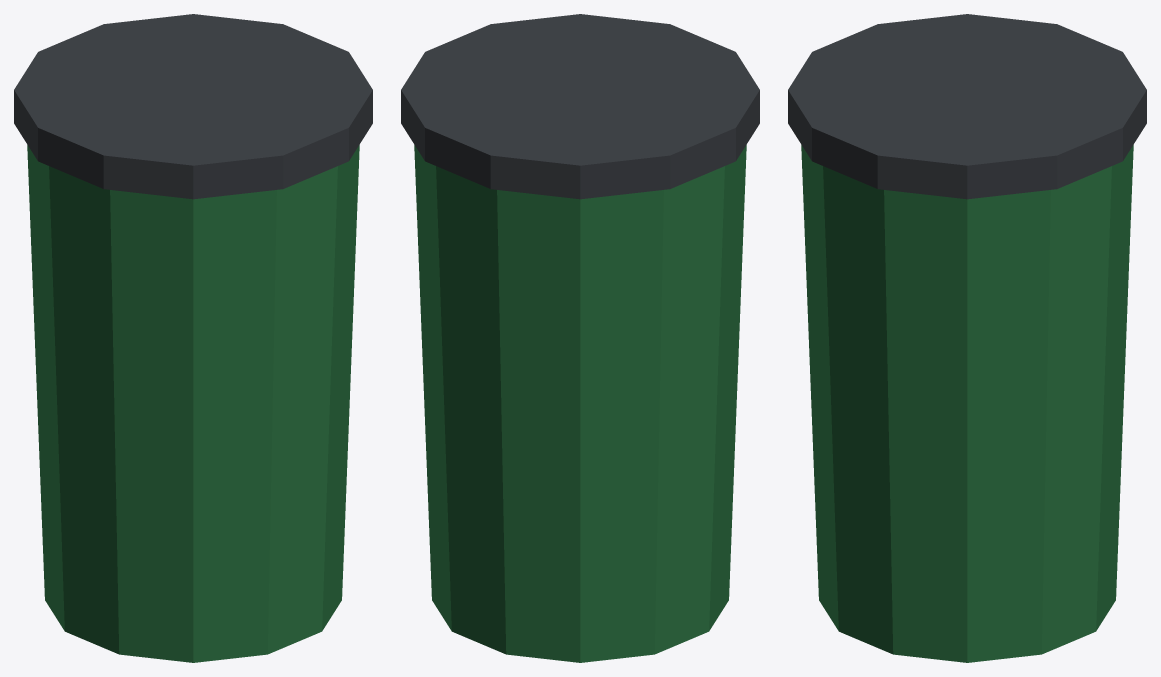
File: lixeira.glb
3 renders of one model, left to right at view 1: azimuth 30°, elevation 25°; view 2: azimuth 150°, elevation 25°; view 3: azimuth 270°, elevation 25°, orthographic.
Parts seen in each view (by area): view 1: lixeira_corpo; view 2: lixeira_corpo; view 3: lixeira_corpo.
Part boxes in pixels (bbox=[...]): lixeira_corpo: bbox=[14, 14, 372, 662]; lixeira_corpo: bbox=[401, 14, 759, 662]; lixeira_corpo: bbox=[788, 14, 1146, 662].
Size of the model in its own units: 0.58 by 0.91 by 0.58.
